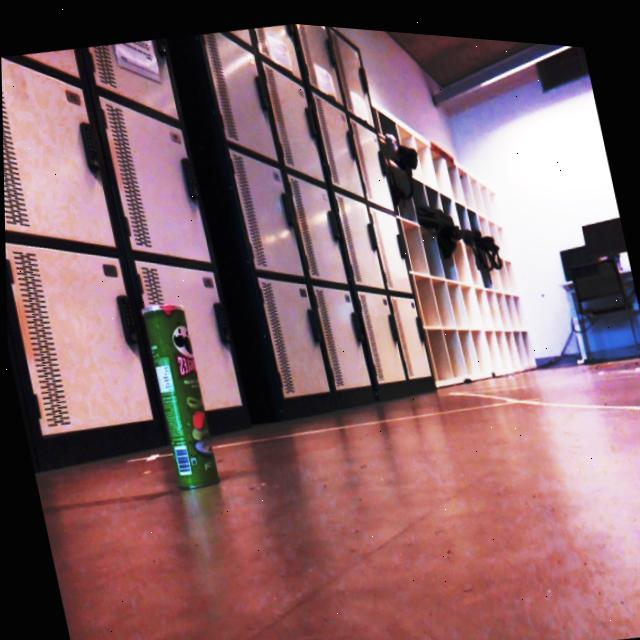greenpringles: (125, 273, 233, 512)
